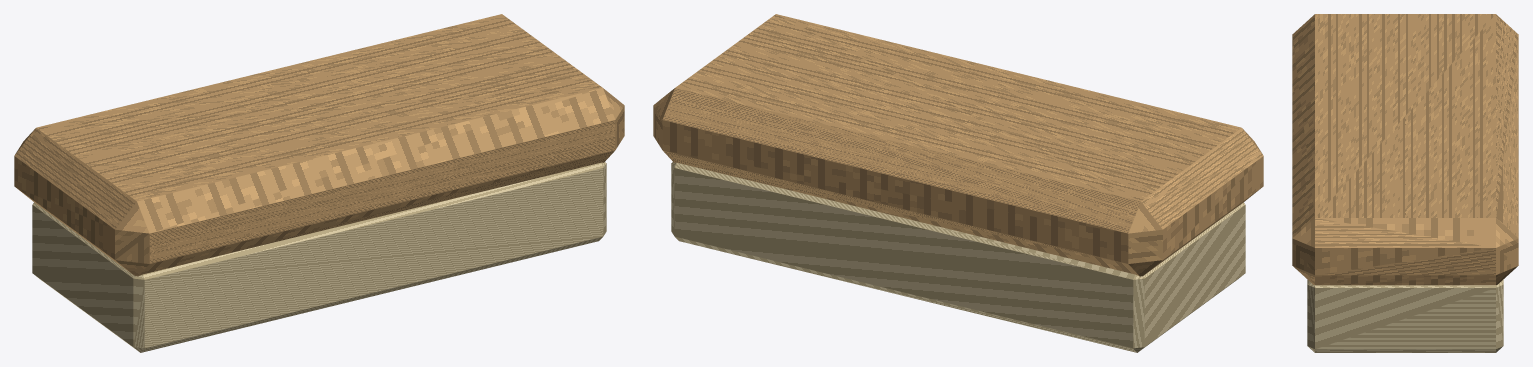
The model's file is brush.glb.
3 views of the same model, side by side, from view 1: azimuth 30°, elevation 25°; view 2: azimuth 150°, elevation 25°; view 3: azimuth 270°, elevation 25° (orthographic). The views are drawn at different scales.
Parts seen in each view (by area): view 1: block_back, block_bristles; view 2: block_back, block_bristles; view 3: block_back, block_bristles.
Boxes of the visible parts, <box> form: block_back: <box>14,14,624,276</box>; block_bristles: <box>32,162,606,352</box>; block_back: <box>653,14,1263,276</box>; block_bristles: <box>671,162,1245,352</box>; block_back: <box>1292,14,1518,285</box>; block_bristles: <box>1307,279,1503,352</box>.
Bounding box in the file's own units: 0.14 × 0.04 × 0.06.
1 material, 1 textured.
